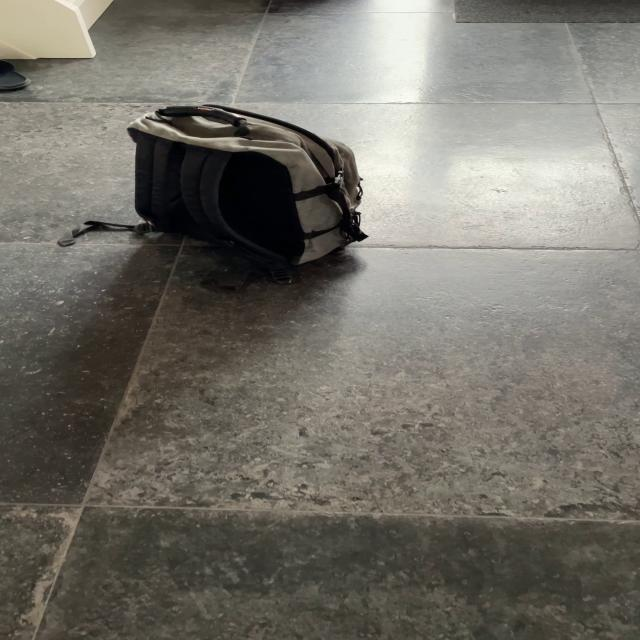backpack: (117, 99, 377, 287)
